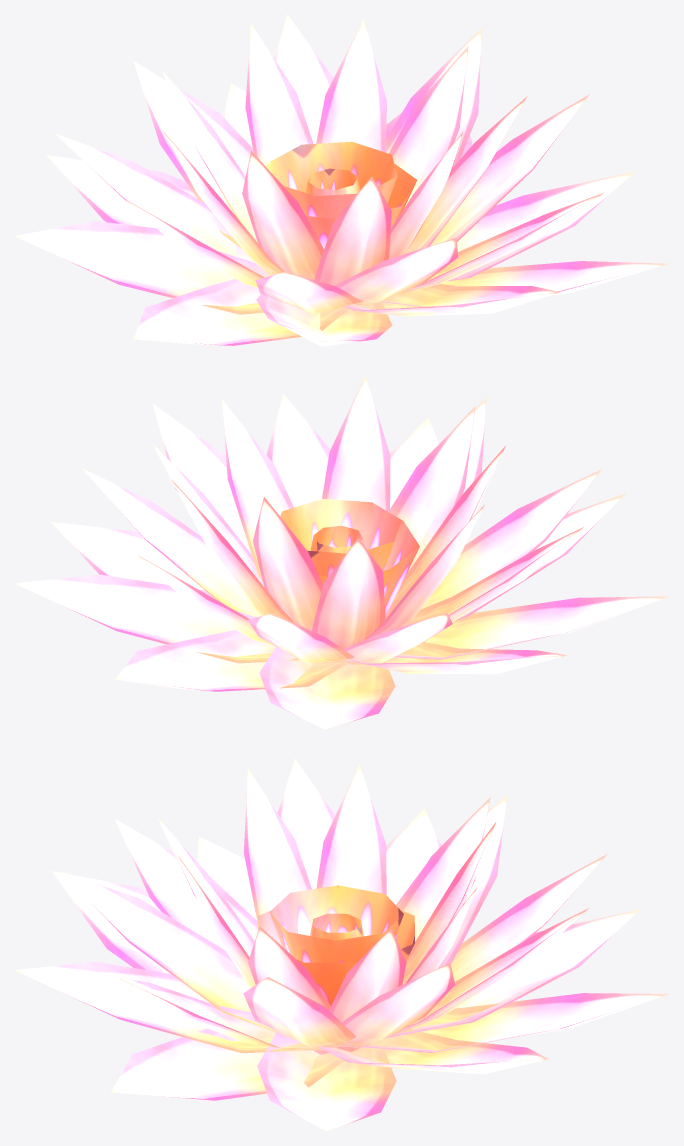
Rendered from lilly_flower_SM.fbx.
The picture shows the model from 3 angles, top to bottom: view 1: azimuth 30°, elevation 25°; view 2: azimuth 150°, elevation 25°; view 3: azimuth 270°, elevation 25°; orthographic projection. The views are drawn at different scales.
Parts seen in each view (by area): view 1: lilly_flower_SM_LOD0; view 2: lilly_flower_SM_LOD0; view 3: lilly_flower_SM_LOD0.
Part boxes in pixels (bbox=[...]): lilly_flower_SM_LOD0: bbox=[14, 14, 668, 346]; lilly_flower_SM_LOD0: bbox=[14, 375, 668, 729]; lilly_flower_SM_LOD0: bbox=[14, 758, 669, 1131].
Size of the model in its own units: 59.9 by 58.66 by 22.35.
2 materials, 2 textured.
